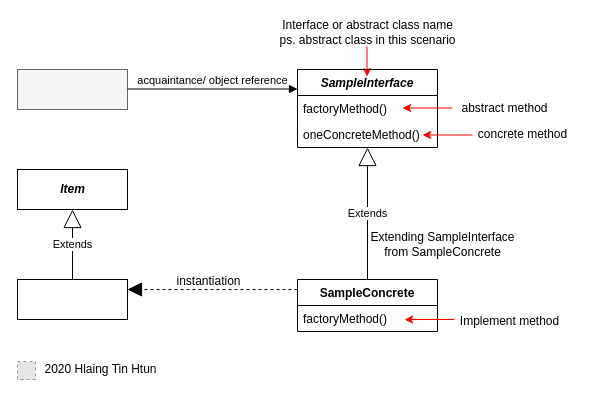
This 590x397 diagram has some shape labels left out. Grey dashed boxes stand in for pictures. Here are the shapes that lost their labels. From the top down, the centre of each, then its label:
point (72, 89): Client
point (72, 299): ConcreteItem
